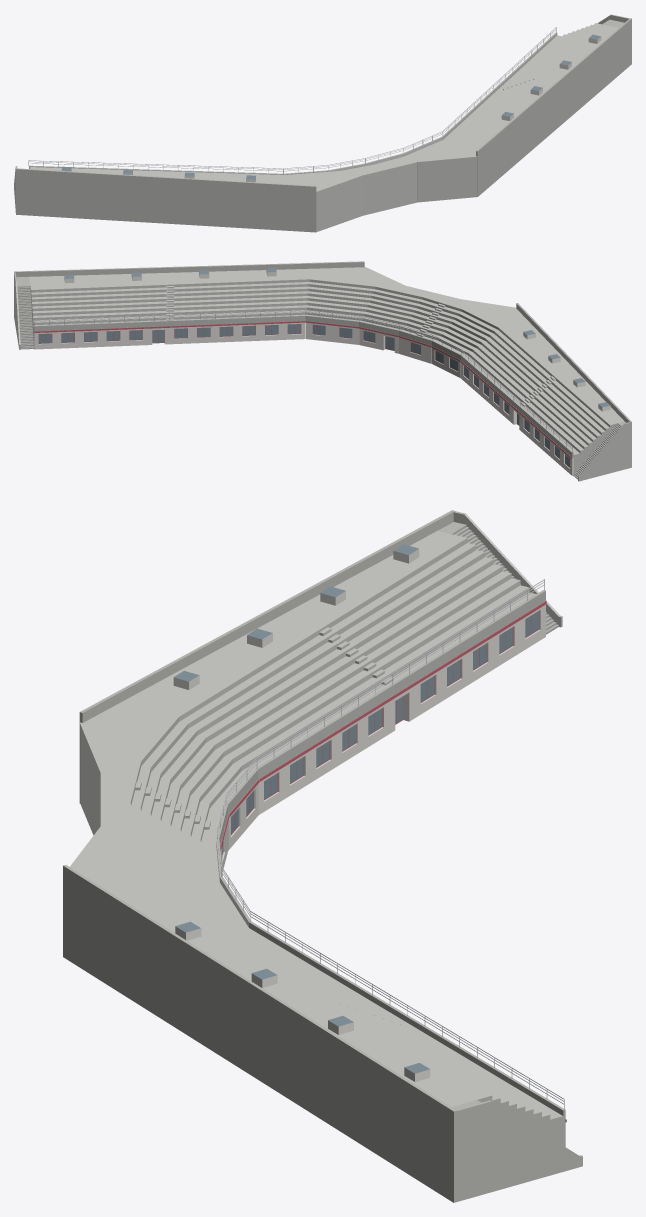
3 renders of one model, top to bottom at view 1: azimuth 30°, elevation 25°; view 2: azimuth 150°, elevation 25°; view 3: azimuth 270°, elevation 25°, orthographic. The views are drawn at different scales.
Parts seen in each view (by area): view 1: centreHall__concrete, centreHall__seat, centreHall__rail, centreHall__glass, centreHall__white; view 2: centreHall__seat, centreHall__concrete, centreHall__white, centreHall__glass, centreHall__rail, centreHall__trim, centreHall__frame; view 3: centreHall__seat, centreHall__concrete, centreHall__white, centreHall__glass, centreHall__rail, centreHall__trim.
Boxes of the visible parts, left/top/right/bottom form: centreHall__concrete: left=14, top=14, right=631, bottom=232; centreHall__seat: left=29, top=23, right=618, bottom=191; centreHall__rail: left=28, top=27, right=556, bottom=173; centreHall__glass: left=61, top=34, right=600, bottom=179; centreHall__white: left=62, top=36, right=601, bottom=182; centreHall__seat: left=29, top=267, right=624, bottom=454; centreHall__concrete: left=14, top=261, right=631, bottom=481; centreHall__white: left=34, top=269, right=610, bottom=475; centreHall__glass: left=39, top=268, right=610, bottom=467; centreHall__rail: left=34, top=310, right=572, bottom=452; centreHall__trim: left=34, top=321, right=571, bottom=459; centreHall__frame: left=38, top=324, right=569, bottom=467; centreHall__seat: left=70, top=531, right=563, bottom=1119; centreHall__concrete: left=63, top=510, right=582, bottom=1202; centreHall__white: left=173, top=549, right=545, bottom=1081; centreHall__glass: left=174, top=544, right=538, bottom=1073; centreHall__rail: left=217, top=579, right=564, bottom=1110; centreHall__trim: left=220, top=601, right=566, bottom=1122.
Bounding box in the file's own units: 114 × 8.1 × 41.75.
